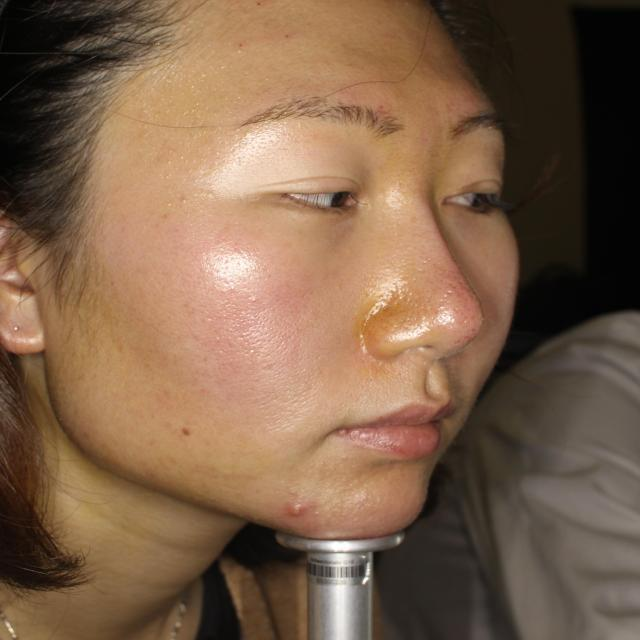acne: (284, 493, 322, 529)
